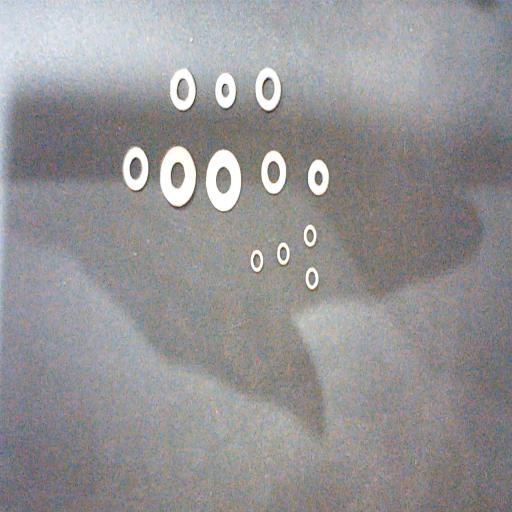washer: (160, 146, 196, 207), (206, 149, 241, 211), (255, 67, 281, 111), (123, 147, 148, 191), (170, 68, 195, 111), (261, 151, 286, 194), (215, 72, 236, 109), (308, 159, 329, 195), (250, 250, 264, 272), (277, 243, 290, 265), (306, 267, 318, 290), (304, 224, 316, 246)
